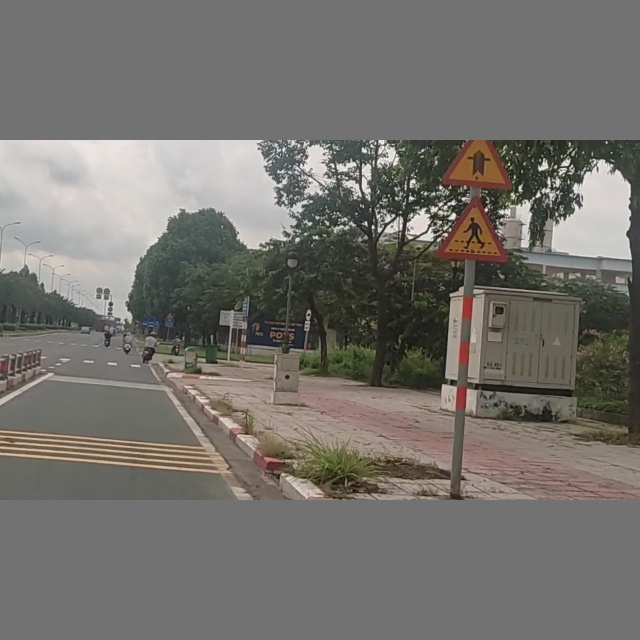W.224: (433, 195, 510, 263)
